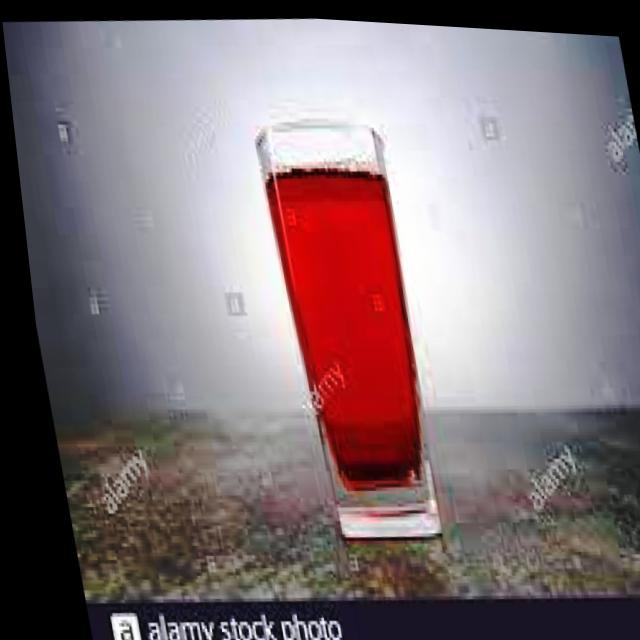drink: (242, 96, 462, 546)
